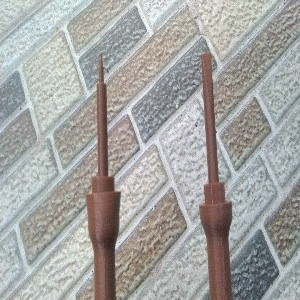obeng: (198, 51, 234, 300)
solder: (85, 51, 122, 300)
